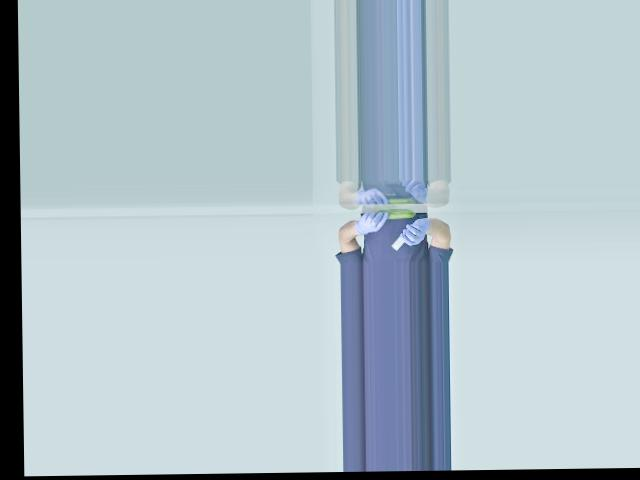cucumber: (376, 208, 415, 219)
